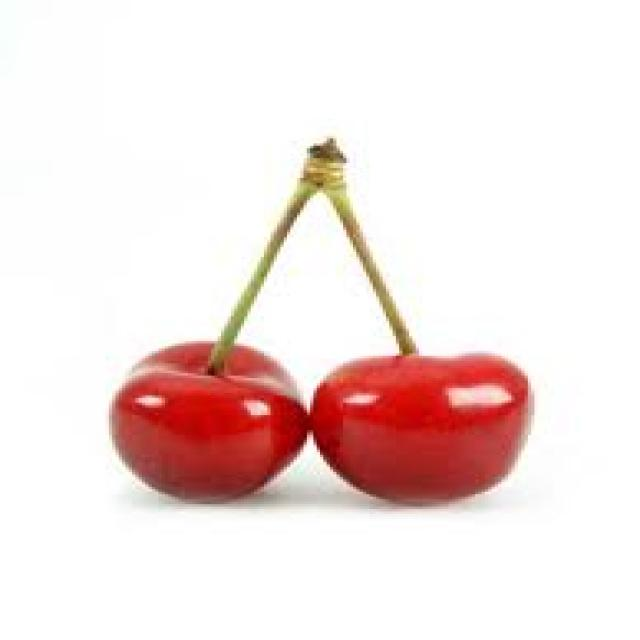cherry: (79, 128, 554, 519)
